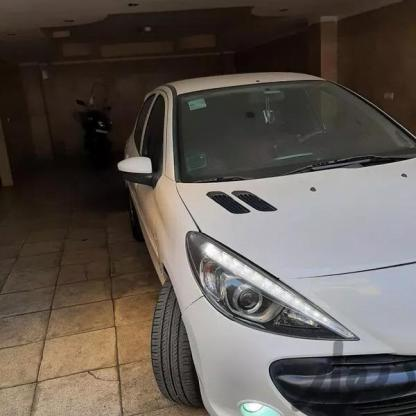Car: (91, 34, 416, 416)
